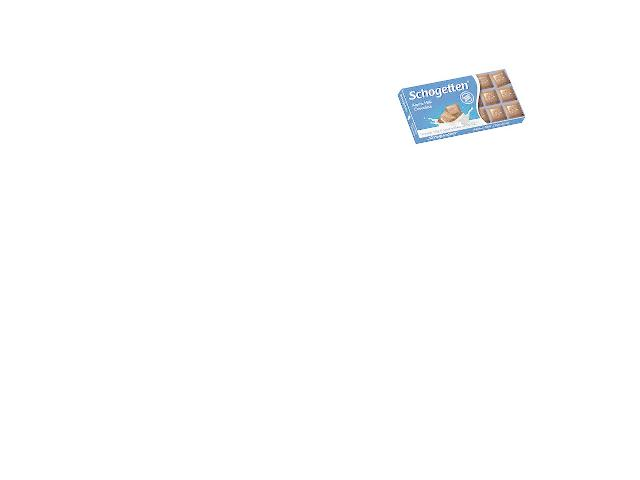chocolate: (395, 68, 526, 133)
